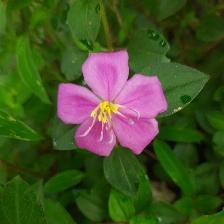malabar melastome: (57, 49, 172, 165)
